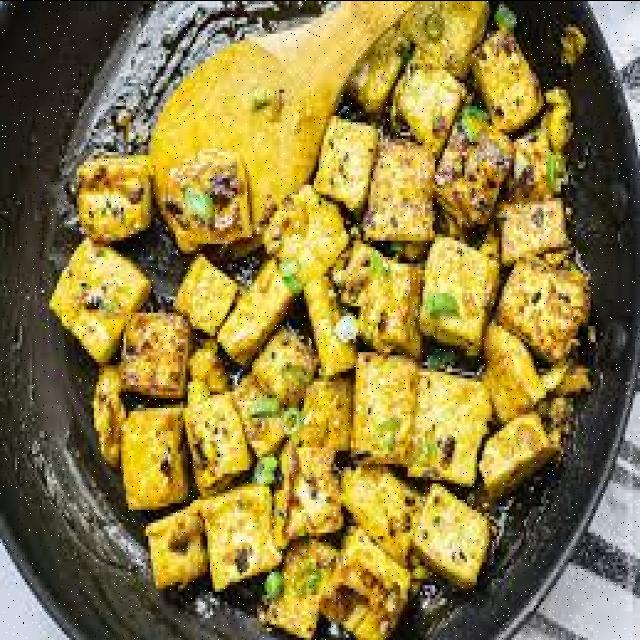Tofu: (49, 3, 588, 640), (77, 151, 252, 253)
